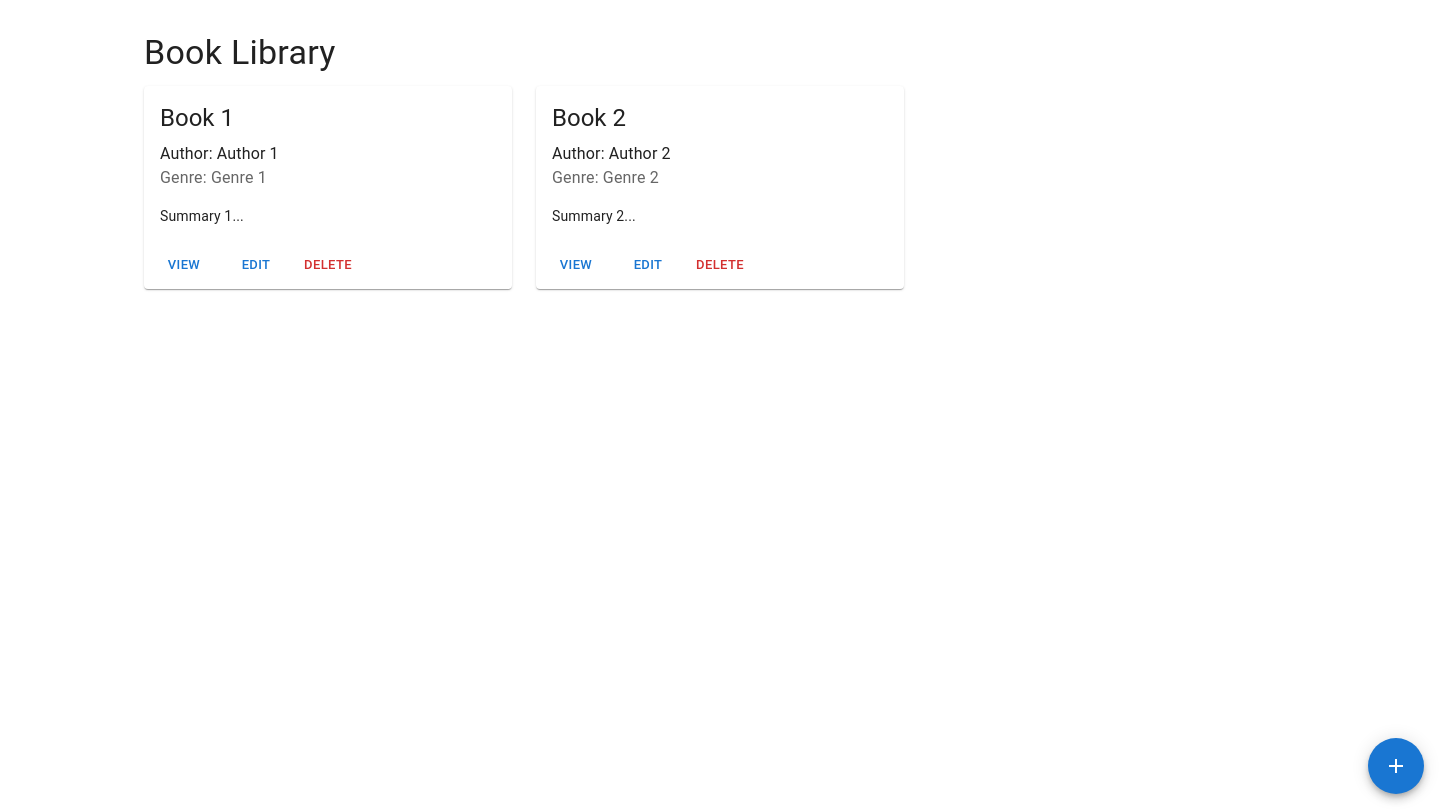
Test case: BookList Page › closes delete dialog on cancel
Check: the heading "Book 1" is shown, box top-left (160, 104), bottom-right (234, 132)
Step 1. Click the button "Delete" below "Summary 1..." → [328, 266], box top-left (296, 250), bottom-right (360, 281)
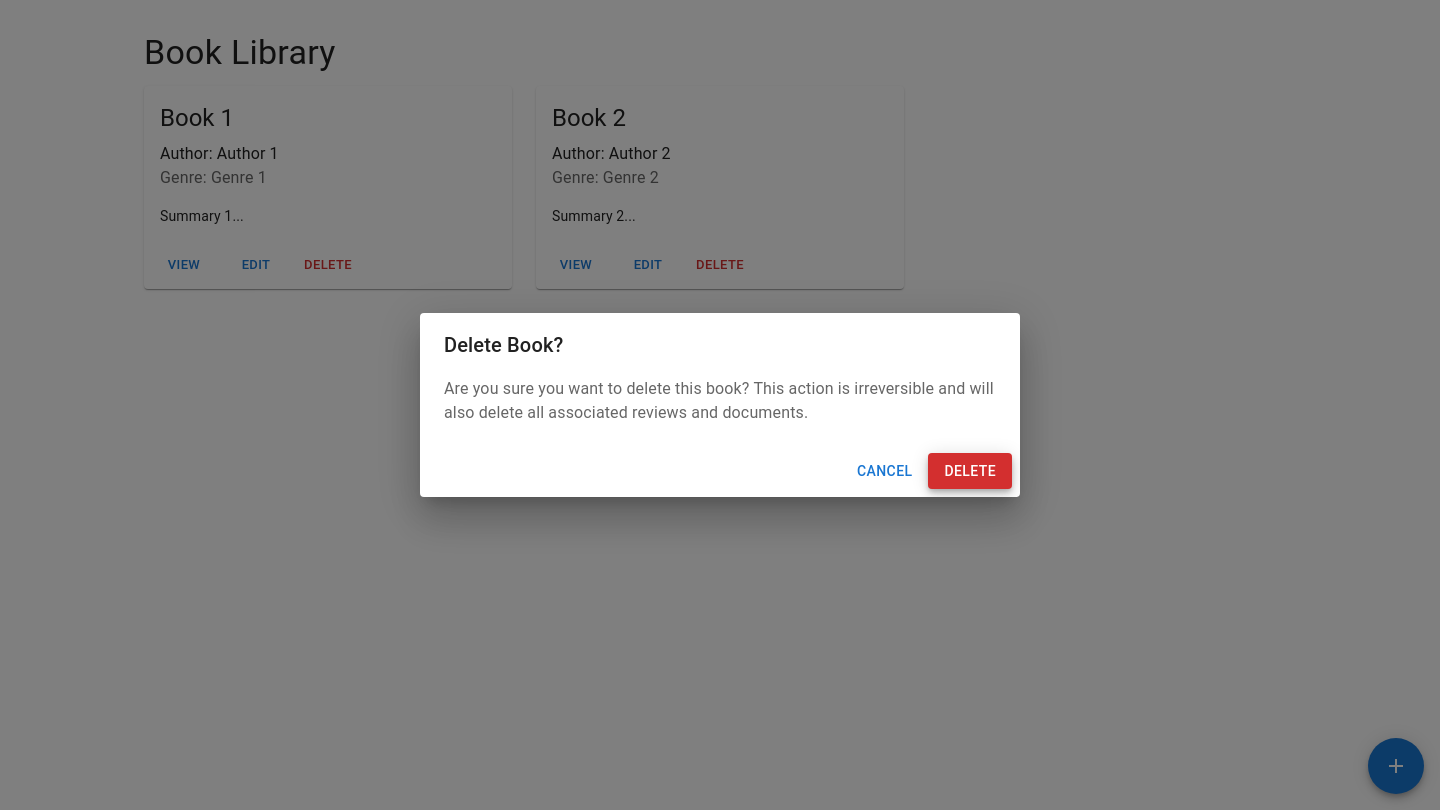
Check: the dialog is shown, box top-left (420, 313), bottom-right (1020, 497)
Step 2. Click the button "Cancel" → [885, 471], box top-left (849, 453), bottom-right (920, 489)
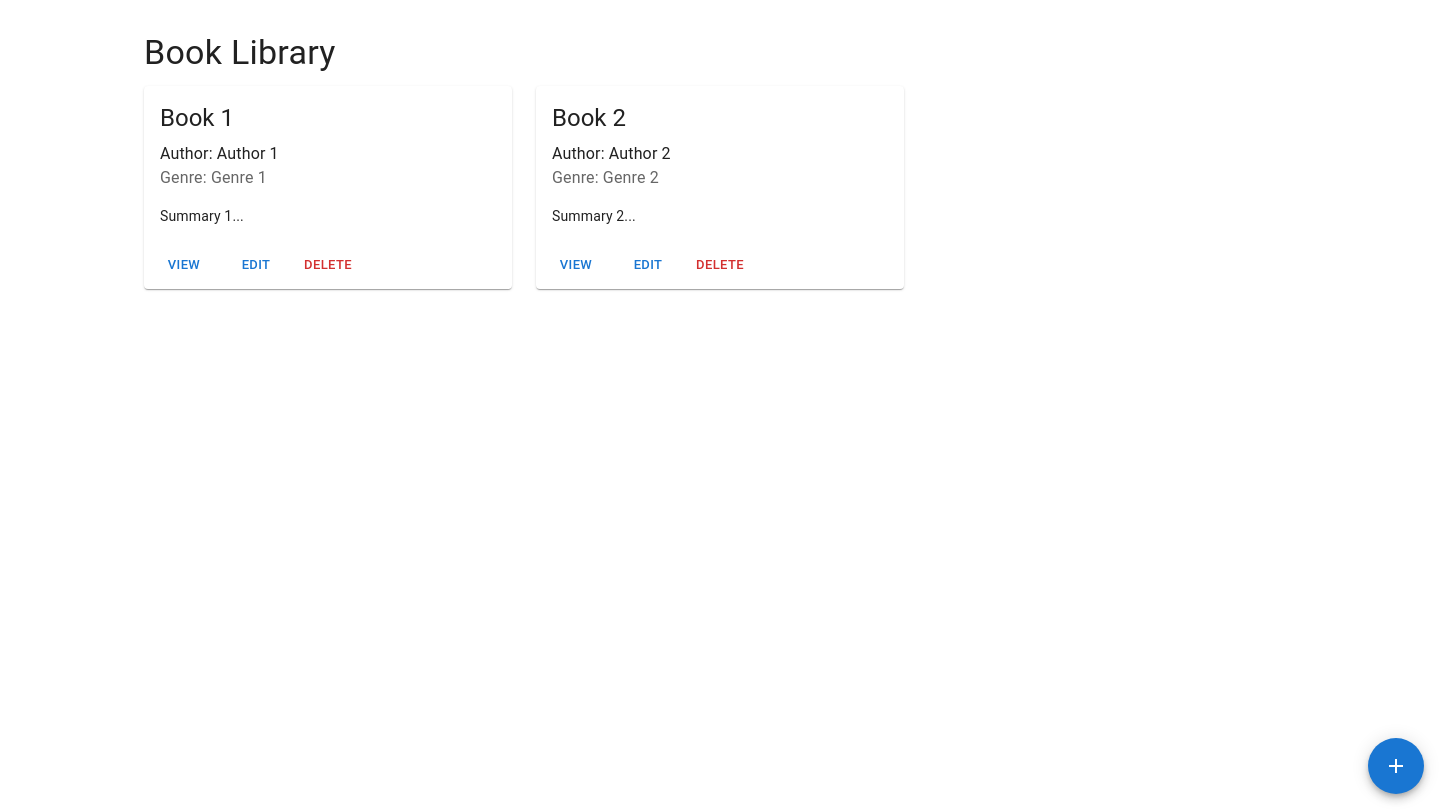
Check: the dialog is gone
